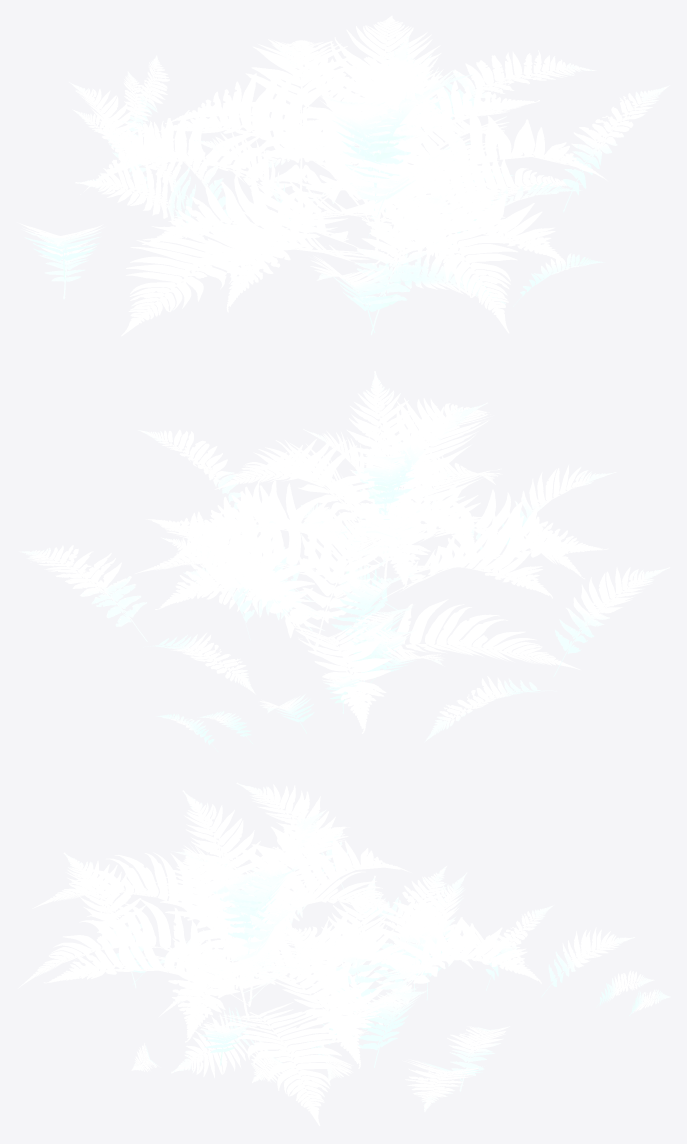
3 views of the same model, one above another, from view 1: azimuth 30°, elevation 25°; view 2: azimuth 150°, elevation 25°; view 3: azimuth 270°, elevation 25° (orthographic). The views are drawn at different scales.
Parts seen in each view (by area): view 1: SM_Fern_02_LOD0; view 2: SM_Fern_02_LOD0; view 3: SM_Fern_02_LOD0.
Part boxes in pixels (x1,y1,x2,y2): SM_Fern_02_LOD0: (17, 15, 669, 336); SM_Fern_02_LOD0: (19, 371, 669, 751); SM_Fern_02_LOD0: (18, 782, 670, 1125).
Size of the model in its own units: 1.08 by 0.3968 by 1.07.
1 material, 1 textured.
